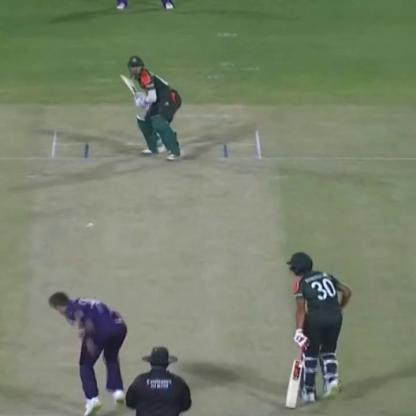ball: (84, 218, 96, 232)
bat: (284, 326, 310, 412), (113, 68, 145, 108)
pitch: (2, 121, 312, 416)
